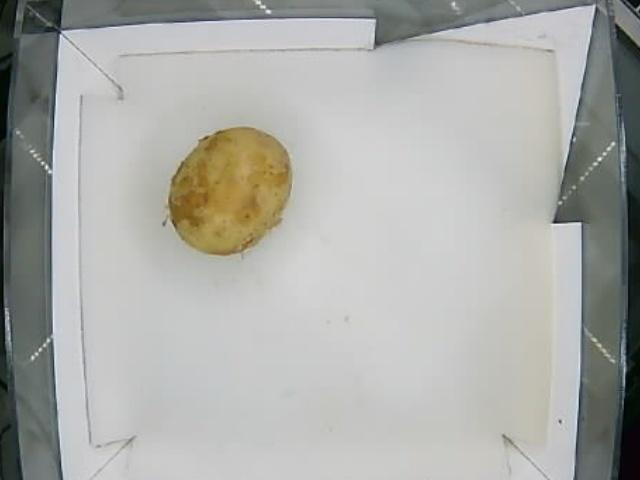Potato: (169, 128, 291, 255)
